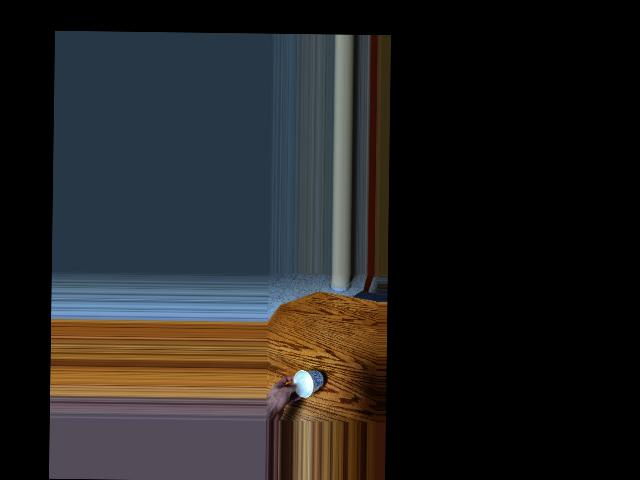cotage: (292, 370, 322, 392)
